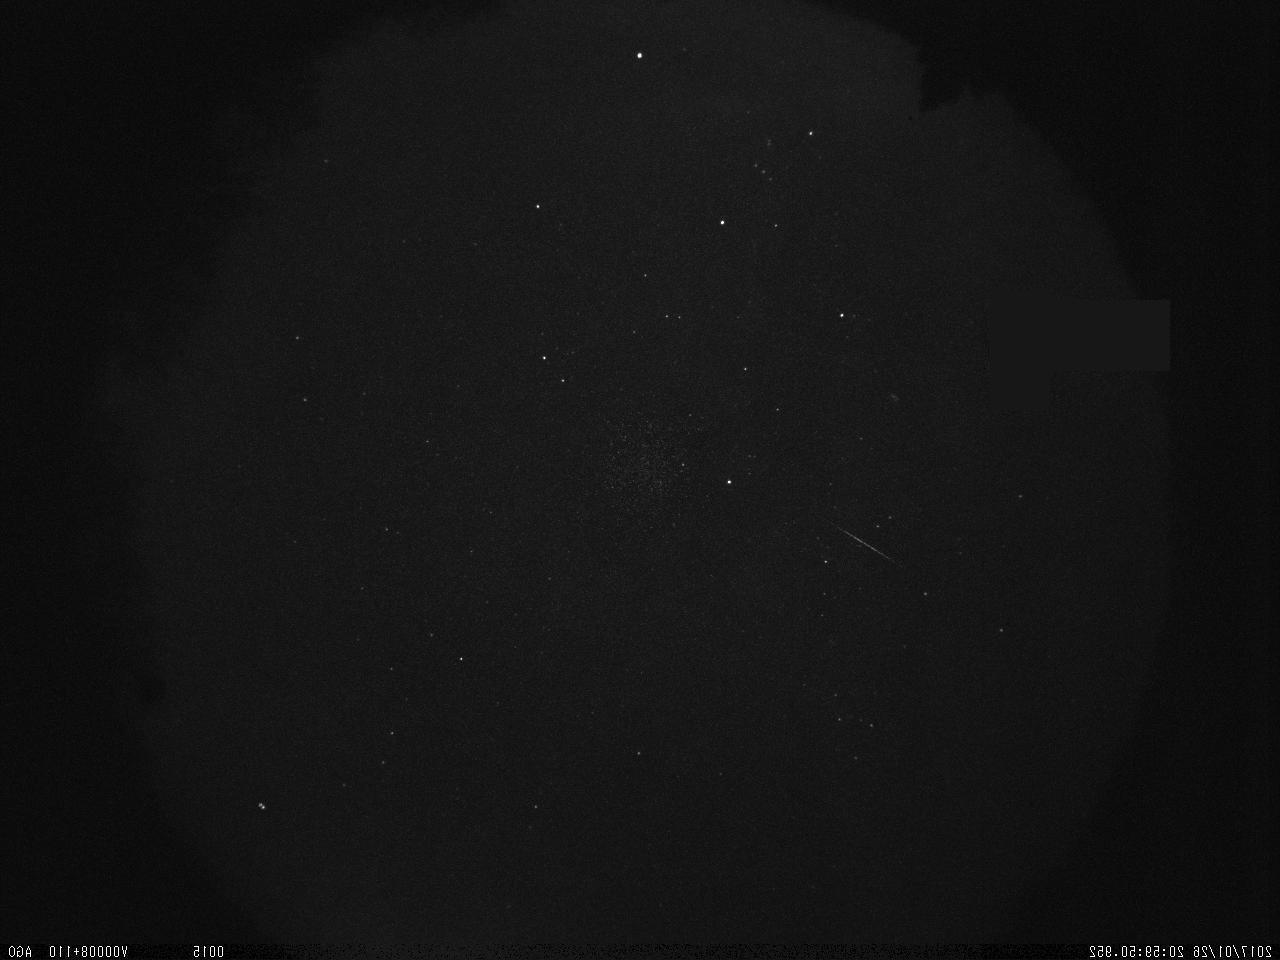meteor: (810, 521, 898, 571)
